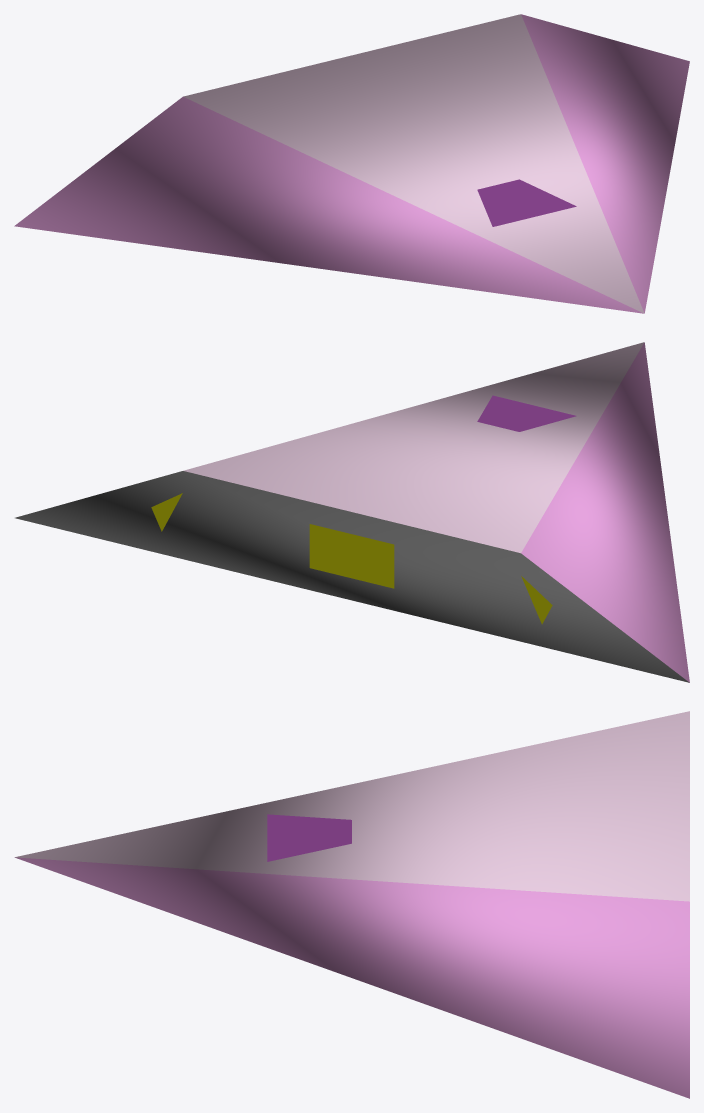
The model's file is marimba.fbx.
3 renders of one model, top to bottom at view 1: azimuth 30°, elevation 25°; view 2: azimuth 150°, elevation 25°; view 3: azimuth 270°, elevation 25°, orthographic. The views are drawn at different scales.
Visible parts, largest first — view 1: mamba; view 2: mamba; view 3: mamba.
Boxes of the visible parts, <box> form: mamba: <box>14,14,689,313</box>; mamba: <box>15,342,689,682</box>; mamba: <box>14,711,689,1098</box>.
Bounding box in the file's own units: 1.28 × 0.16 × 0.9601.
